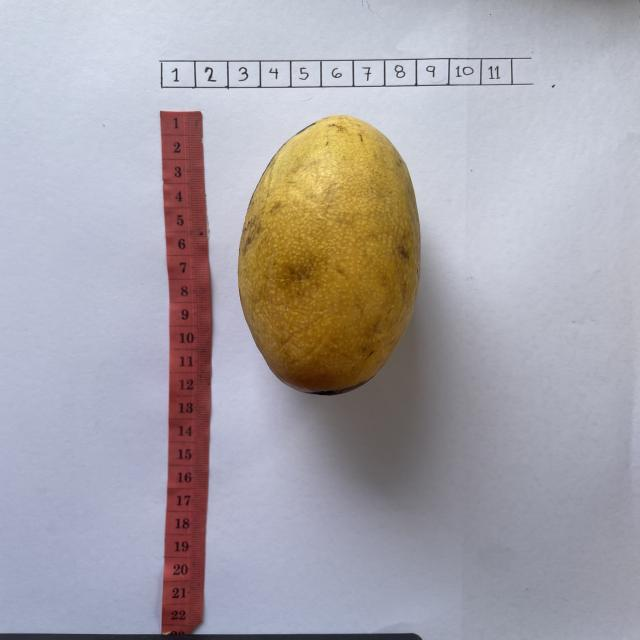Ripe: (237, 115, 422, 398), (237, 116, 422, 398)
